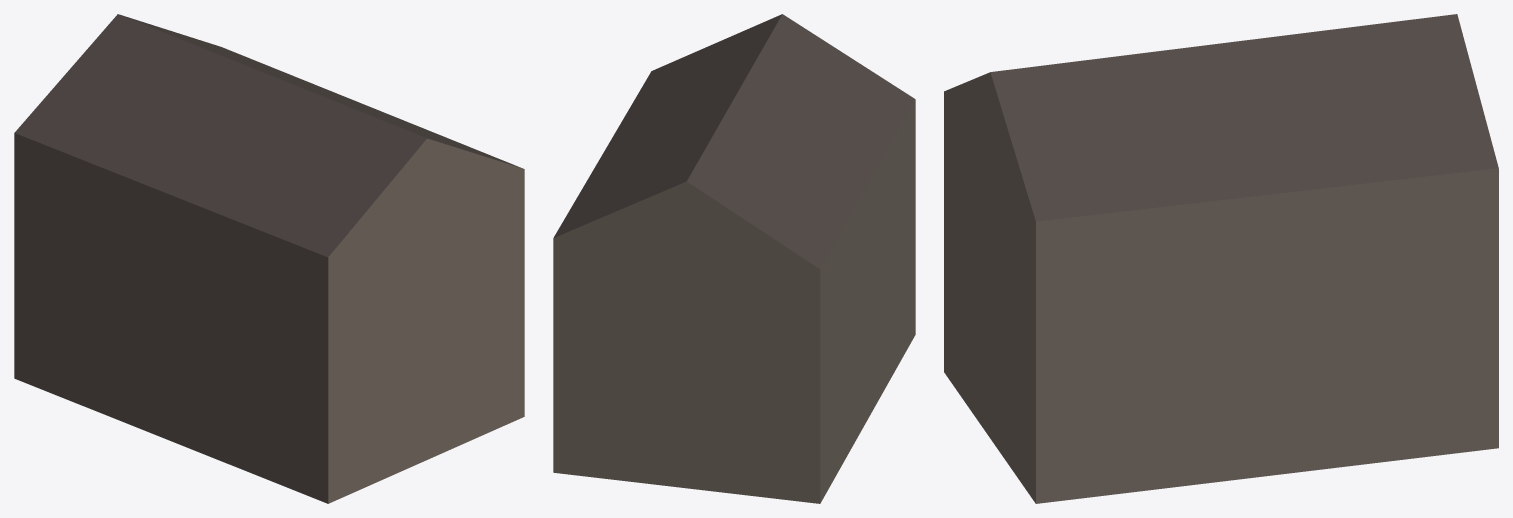
3 renders of one model, left to right at view 1: azimuth 30°, elevation 25°; view 2: azimuth 150°, elevation 25°; view 3: azimuth 270°, elevation 25°, orthographic. The views are drawn at different scales.
Parts seen in each view (by area): view 1: HP-w505646890; view 2: HP-w505646890; view 3: HP-w505646890.
Boxes of the visible parts, x1,y1,x2,y2 form: HP-w505646890: (14, 14, 524, 503); HP-w505646890: (553, 14, 915, 503); HP-w505646890: (944, 14, 1498, 503).
Bounding box in the file's own units: 13.17 × 11.78 × 16.15.
